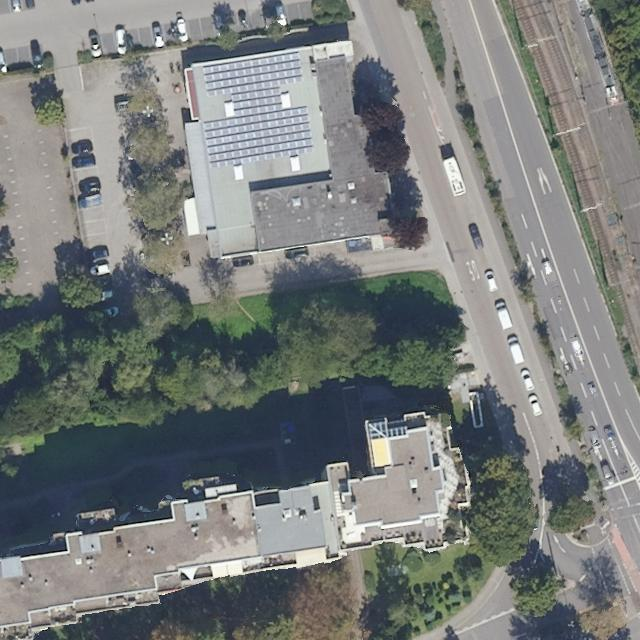PV: (202, 52, 314, 169)
